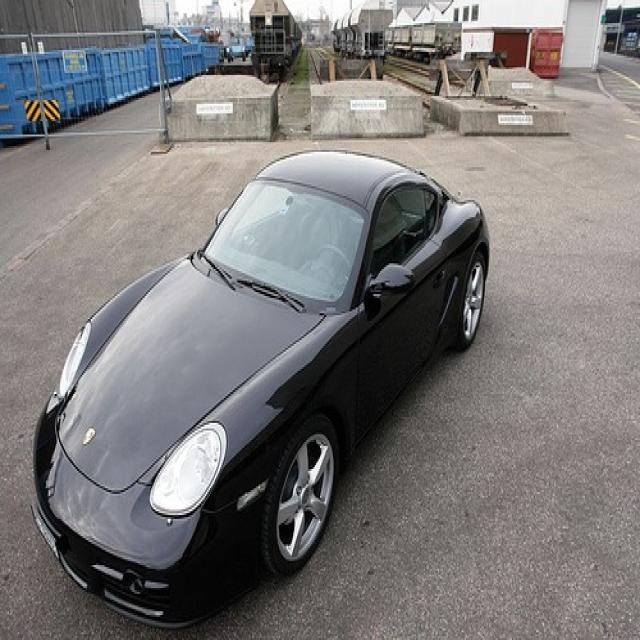car: (23, 150, 490, 634)
train: (250, 0, 306, 83), (389, 13, 466, 68), (330, 4, 393, 67)
